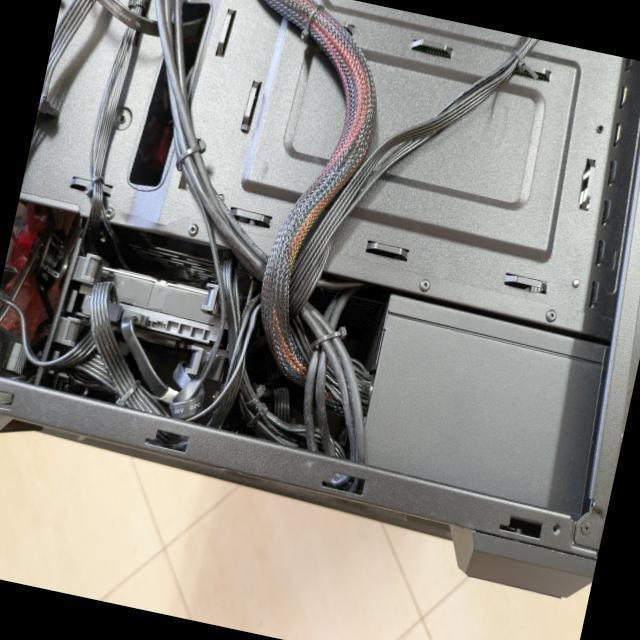DISK: (68, 258, 242, 350)
PSU: (340, 291, 618, 522)
